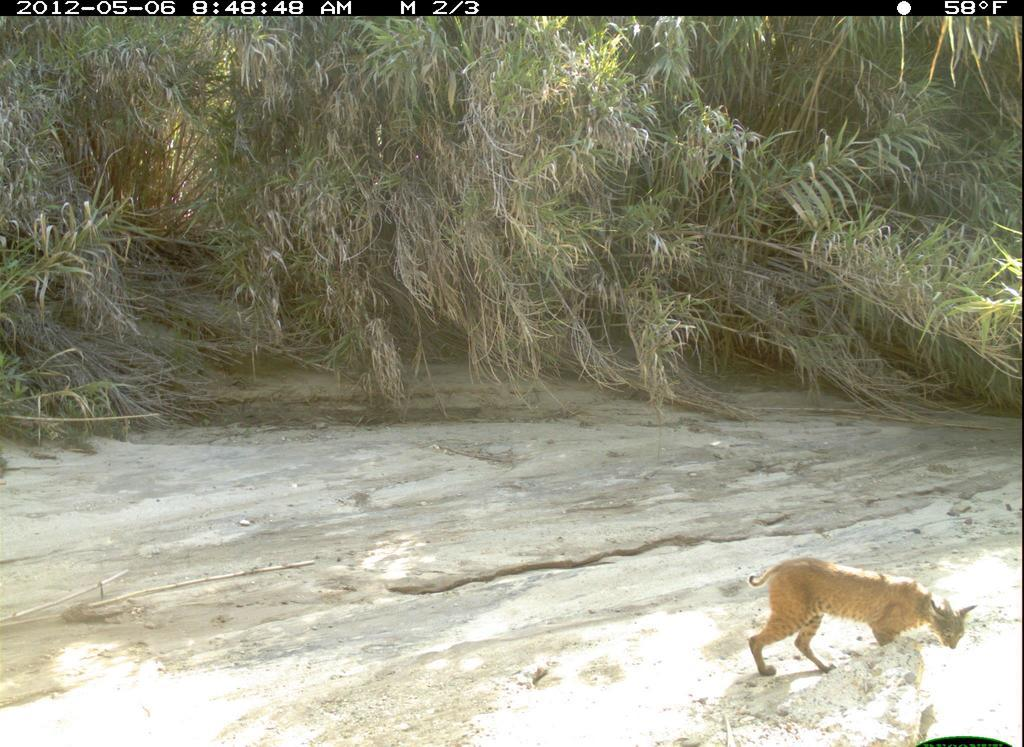bobcat: (738, 546, 986, 685)
